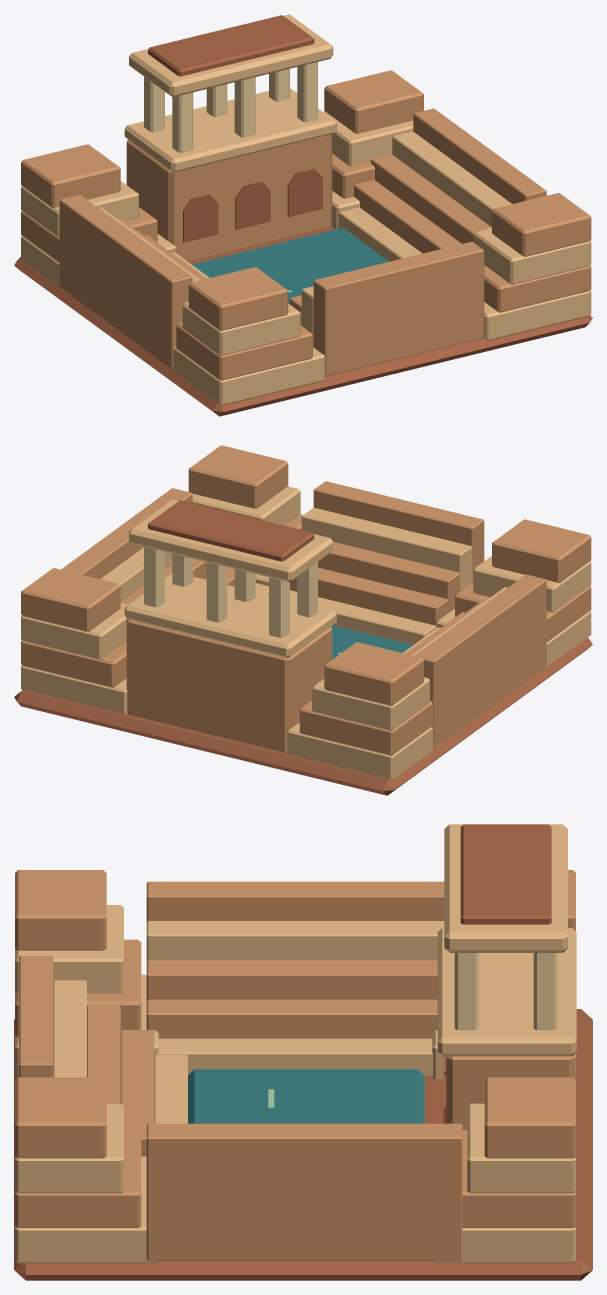
The model's file is stepwell.glb.
3 renders of one model, top to bottom at view 1: azimuth 30°, elevation 25°; view 2: azimuth 150°, elevation 25°; view 3: azimuth 270°, elevation 25°, orthographic. The views are drawn at different scales.
Parts seen in each view (by area): view 1: stepwell; view 2: stepwell; view 3: stepwell.
Boxes of the visible parts, x1,y1,x2,y2 form: stepwell: [14, 14, 592, 416]; stepwell: [14, 445, 592, 795]; stepwell: [14, 824, 592, 1280].
Size of the model in its own units: 1.17 by 0.5995 by 1.1.
